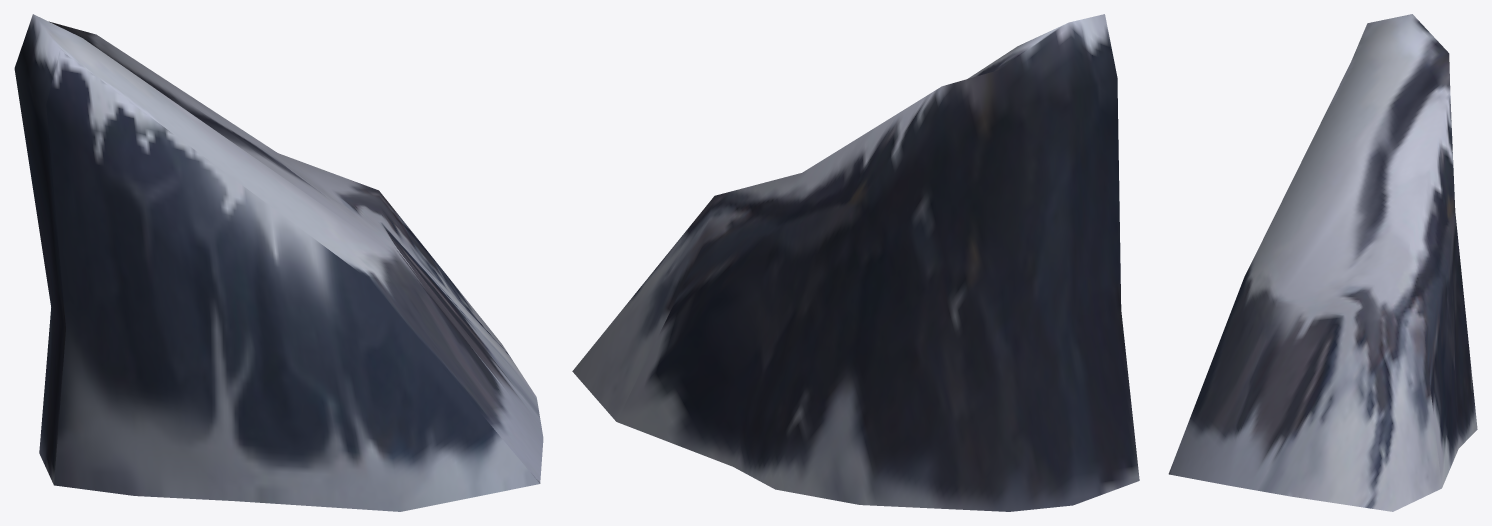
The model's file is LGhuangyuan_shitou05.FBX.
The picture shows the model from 3 angles, left to right: view 1: azimuth 30°, elevation 25°; view 2: azimuth 150°, elevation 25°; view 3: azimuth 270°, elevation 25°; orthographic projection. The views are drawn at different scales.
Parts seen in each view (by area): view 1: LGhuangyuan_shitou05; view 2: LGhuangyuan_shitou05; view 3: LGhuangyuan_shitou05.
Boxes of the visible parts, x1,y1,x2,y2 form: LGhuangyuan_shitou05: (14, 14, 543, 511); LGhuangyuan_shitou05: (572, 14, 1139, 511); LGhuangyuan_shitou05: (1168, 14, 1477, 511).
Bounding box in the file's own units: 68.49 × 50.51 × 60.91.
